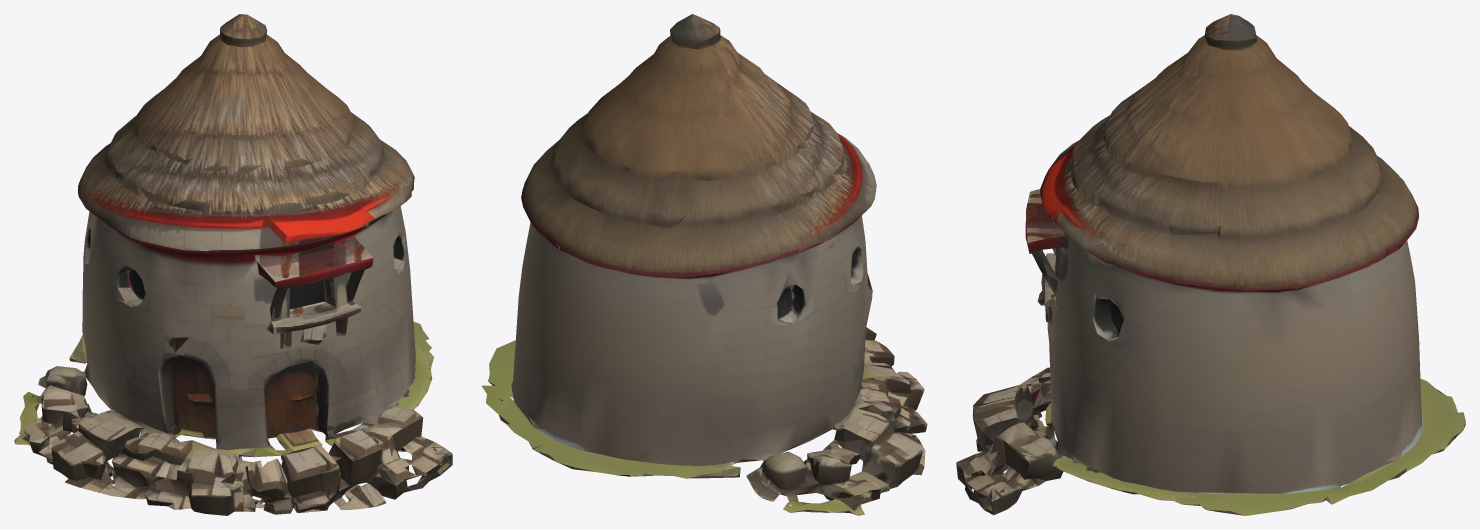
Rendered from etiopia_almacen_mina.glb.
3 views of the same model, side by side, from view 1: azimuth 30°, elevation 25°; view 2: azimuth 150°, elevation 25°; view 3: azimuth 270°, elevation 25° (orthographic). The views are drawn at different scales.
Visible parts, largest first — view 1: geometry_0; view 2: geometry_0; view 3: geometry_0.
Boxes of the visible parts, box(x1,y1,x2,y2) form: geometry_0: box(14, 14, 452, 515); geometry_0: box(481, 14, 927, 515); geometry_0: box(956, 14, 1465, 515).
Size of the model in its own units: 1.35 by 1.38 by 1.4.
Materials: 1 (1 with a texture image).
